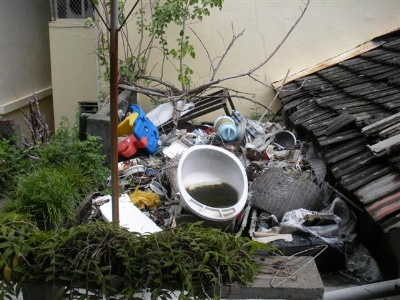bowl: (179, 145, 248, 214), (213, 116, 237, 141)
